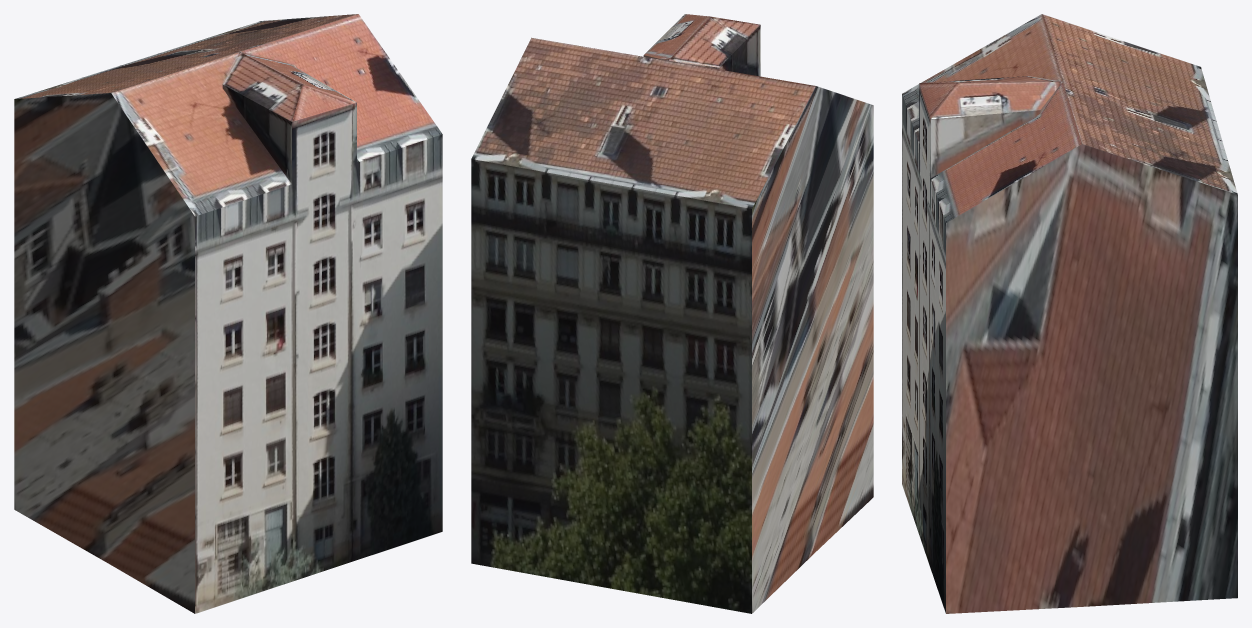
3 renders of one model, left to right at view 1: azimuth 30°, elevation 25°; view 2: azimuth 150°, elevation 25°; view 3: azimuth 270°, elevation 25°, orthographic.
Visible parts, largest first — view 1: Z_UP; view 2: Z_UP; view 3: Z_UP.
Part boxes in pixels (x1,y1,x2,y2): Z_UP: [14, 14, 442, 613]; Z_UP: [471, 14, 873, 613]; Z_UP: [902, 14, 1237, 613].
Bounding box in the file's own units: 17.8 × 27.04 × 17.62.
2 materials, 1 textured.
